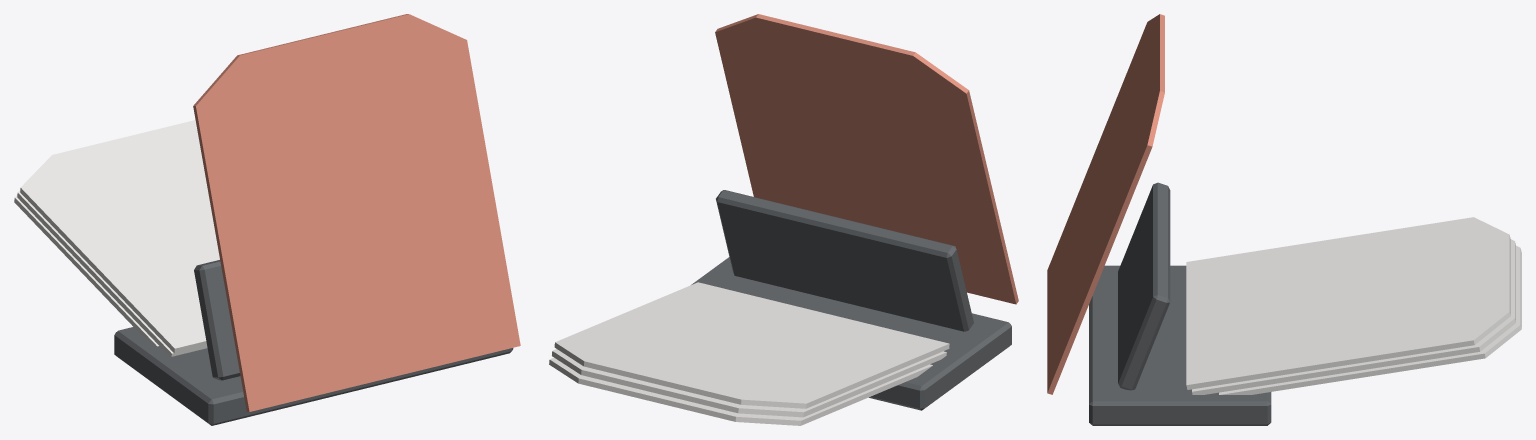
The picture shows the model from 3 angles, left to right: view 1: azimuth 30°, elevation 25°; view 2: azimuth 150°, elevation 25°; view 3: azimuth 270°, elevation 25°; orthographic projection. The views are drawn at different scales.
Visible parts, largest first — view 1: garment-fold-board; view 2: garment-fold-board; view 3: garment-fold-board.
Boxes of the visible parts, x1,y1,x2,y2 form: garment-fold-board: (14, 14, 520, 425); garment-fold-board: (549, 14, 1018, 425); garment-fold-board: (1047, 14, 1521, 425).
Bounding box in the file's own units: 0.36 × 0.3702 × 0.5204.
